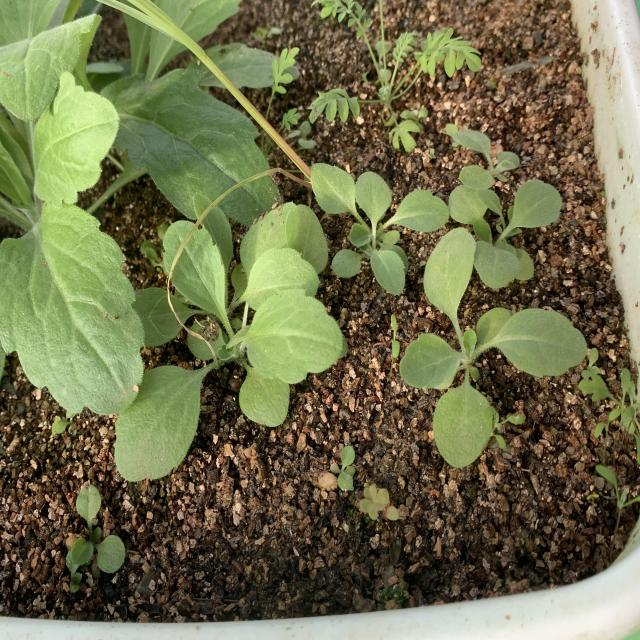horseweed: (119, 213, 351, 447), (404, 233, 586, 453), (310, 161, 462, 305)
